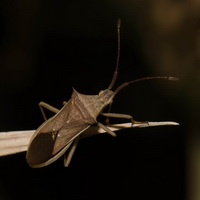insect: (26, 19, 175, 167)
